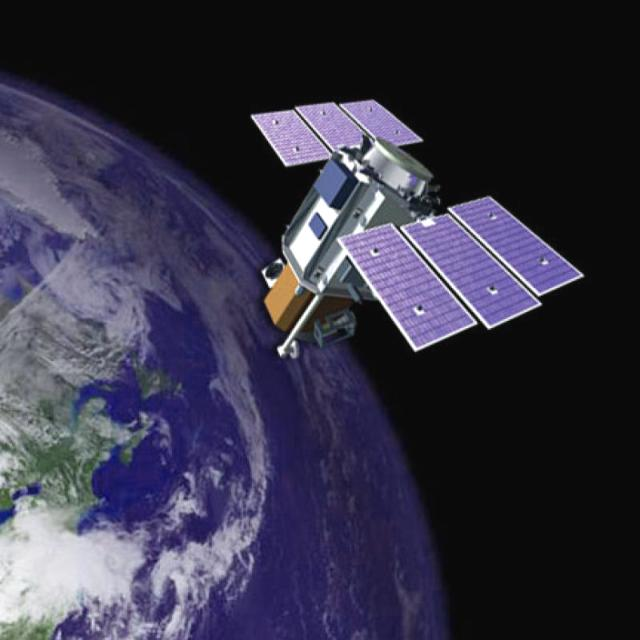satellite: (242, 89, 592, 389)
